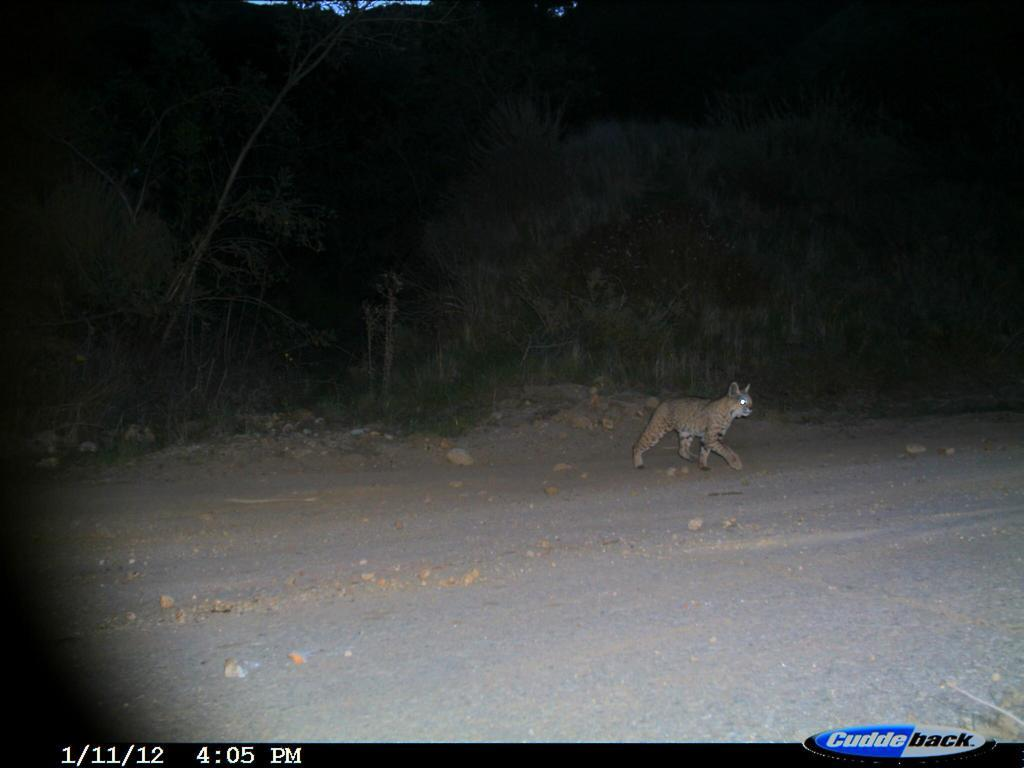bobcat: (628, 374, 767, 477)
